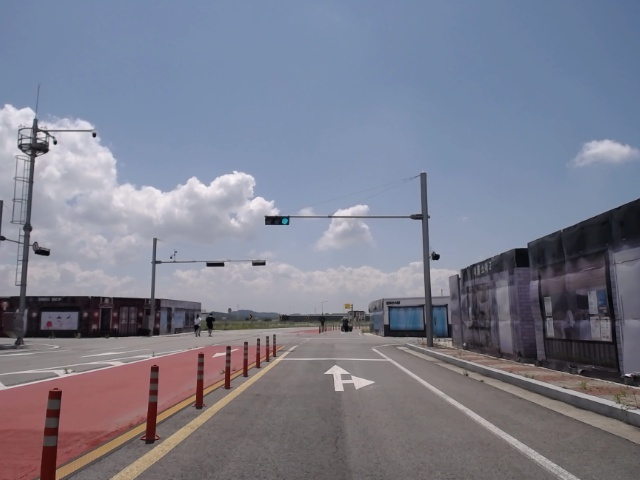green_3: (265, 215, 291, 225)
